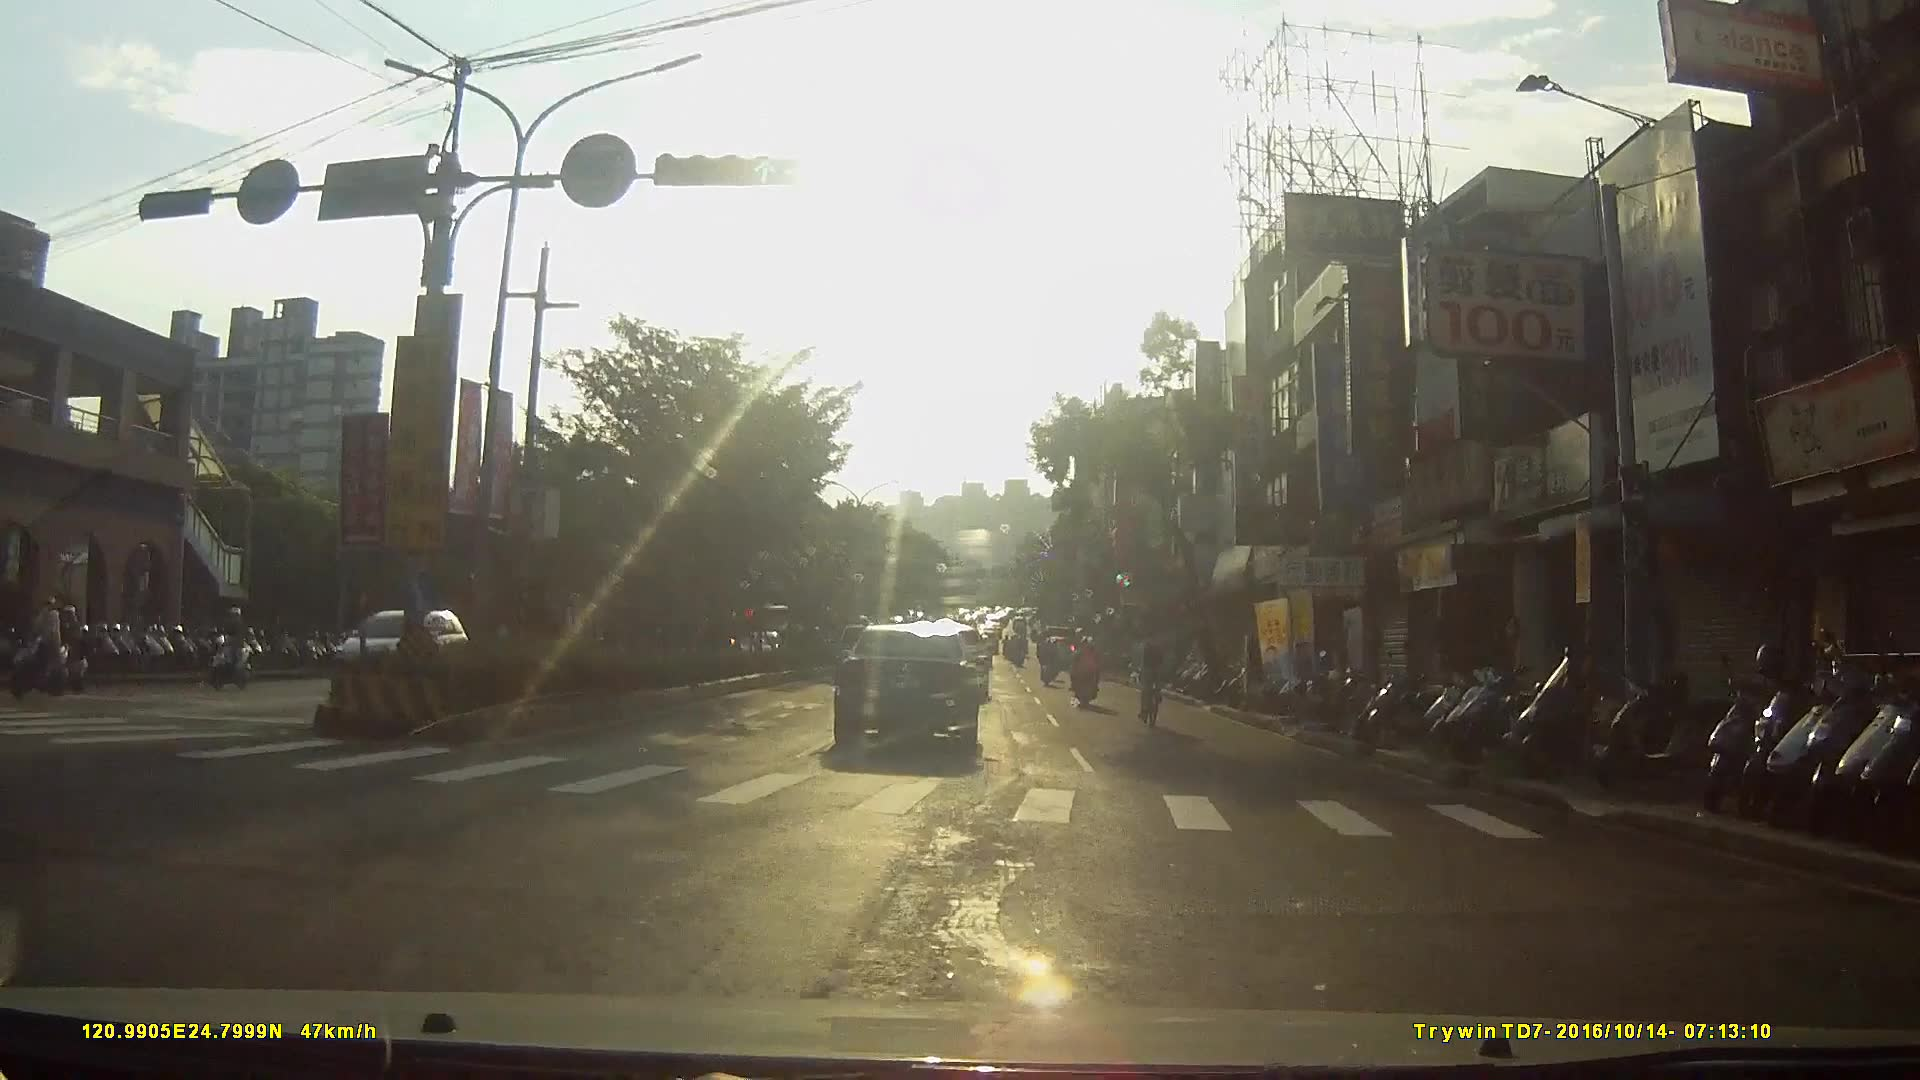rider: (13, 595, 88, 697), (1131, 615, 1175, 718), (211, 607, 253, 691), (1074, 636, 1102, 711), (1035, 636, 1063, 689)
vehicle: (836, 609, 993, 754)
